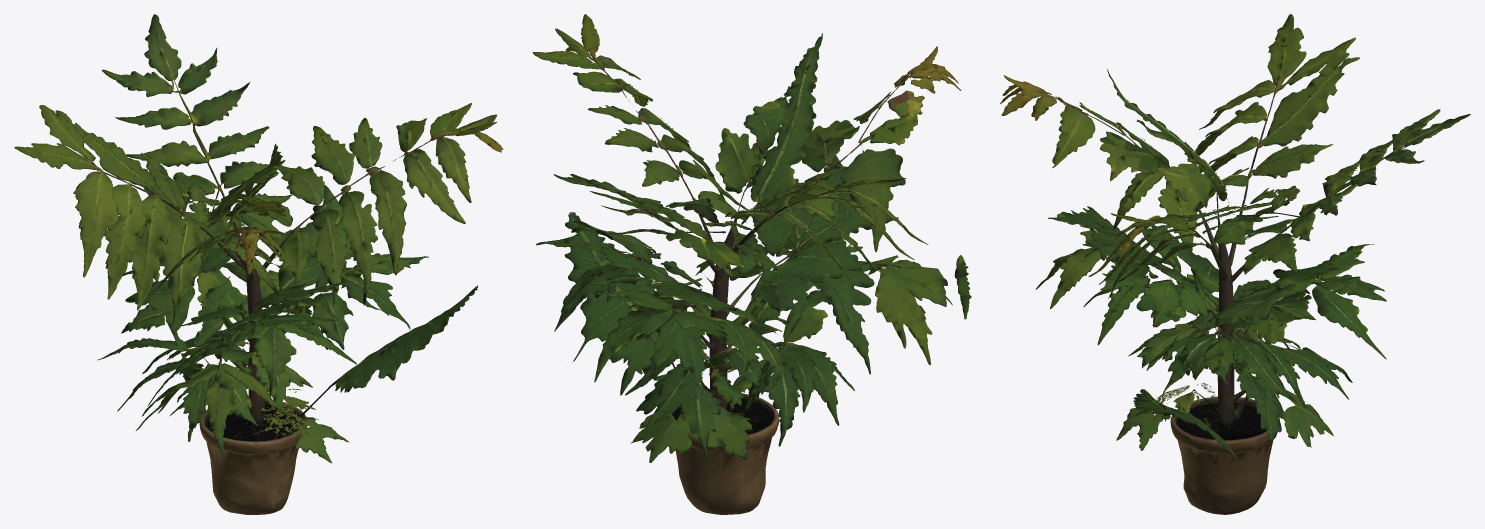
The model's file is neem3d.glb.
3 views of the same model, side by side, from view 1: azimuth 30°, elevation 25°; view 2: azimuth 150°, elevation 25°; view 3: azimuth 270°, elevation 25° (orthographic). The views are drawn at different scales.
Visible parts, largest first — view 1: tmp9f7t3tocobj; view 2: tmp9f7t3tocobj; view 3: tmp9f7t3tocobj.
Boxes of the visible parts, x1=… form: tmp9f7t3tocobj: x1=14, y1=14, x2=503, y2=514; tmp9f7t3tocobj: x1=532, y1=14, x2=971, y2=514; tmp9f7t3tocobj: x1=1000, y1=14, x2=1470, y2=514.
Size of the model in its own units: 0.9996 by 0.9677 by 0.9873.
1 material, 1 textured.
